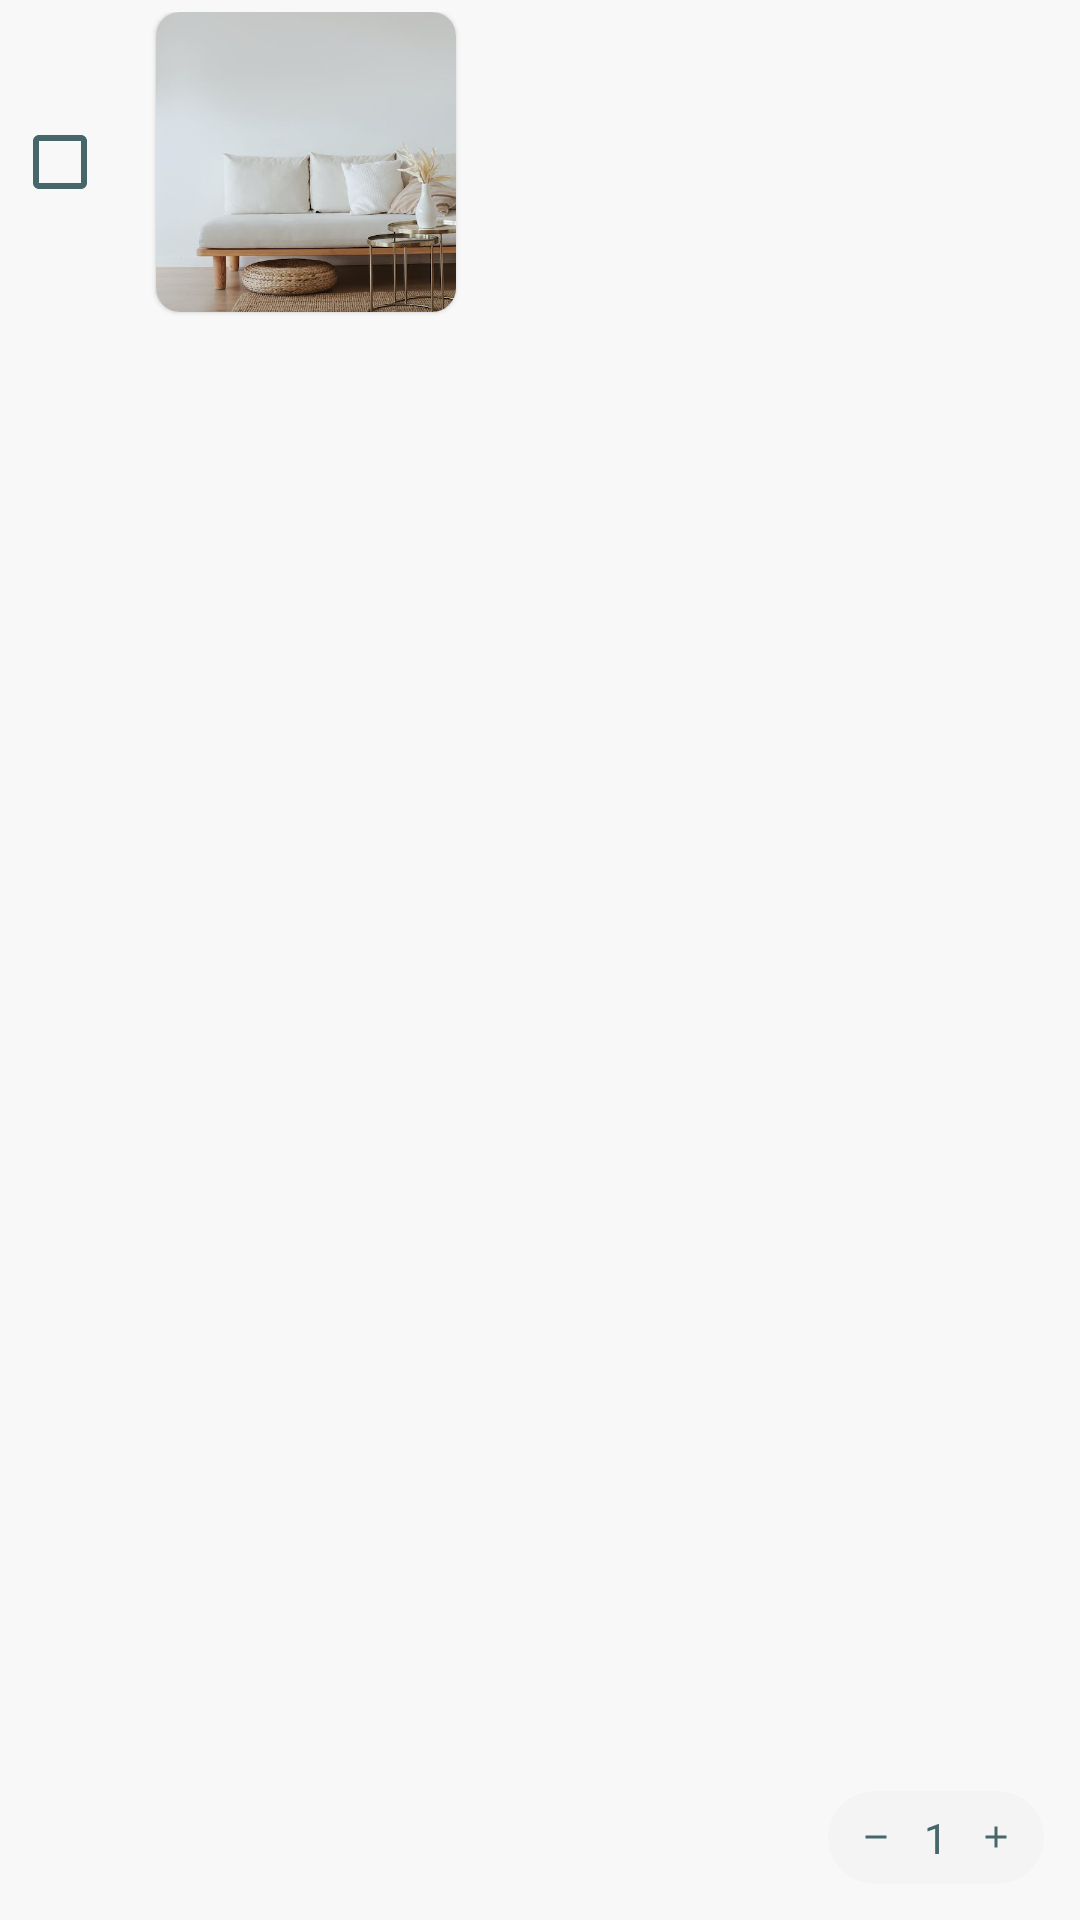

Point at icon controls on the screen. Image size 1080w x 1920h, points as (x,y).
Furniture image: (306,162)
